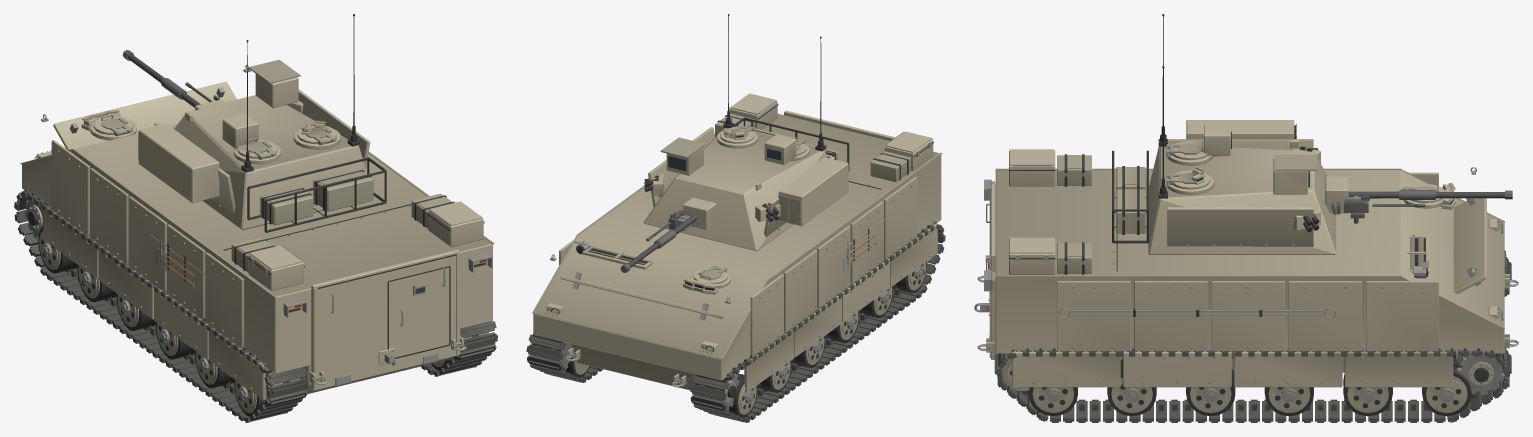
The model's file is usa_ifv_m2a3.glb.
3 views of the same model, side by side, from view 1: azimuth 30°, elevation 25°; view 2: azimuth 150°, elevation 25°; view 3: azimuth 270°, elevation 25° (orthographic). The views are drawn at different scales.
Visible parts, largest first — view 1: body, turret, door, barrel; view 2: body, turret, barrel, door; view 3: body, turret, barrel, door.
Part boxes in pixels (x1,y1,x2,y2): body: (14, 65, 497, 422); turret: (138, 14, 386, 232); door: (311, 249, 460, 390); barrel: (123, 50, 226, 110); body: (526, 93, 945, 422); turret: (643, 14, 849, 251); barrel: (620, 197, 716, 272); door: (784, 110, 894, 140); body: (974, 149, 1518, 422); turret: (1112, 14, 1336, 254); barrel: (1325, 176, 1512, 223); door: (985, 184, 995, 359).
Bounding box in the file's own units: 3.44 × 4.67 × 7.06.
